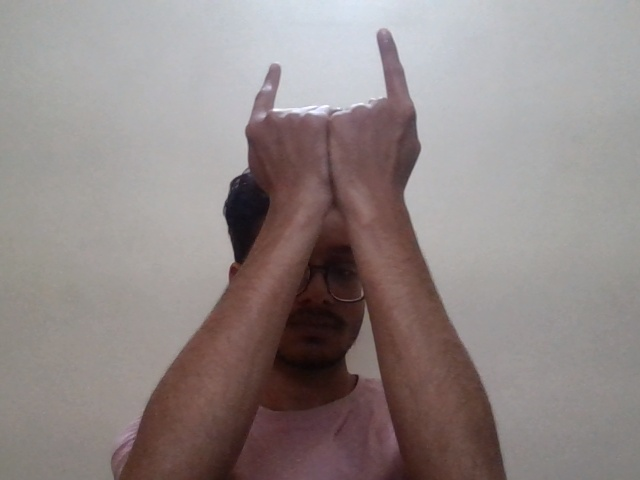when: (244, 19, 441, 230)
